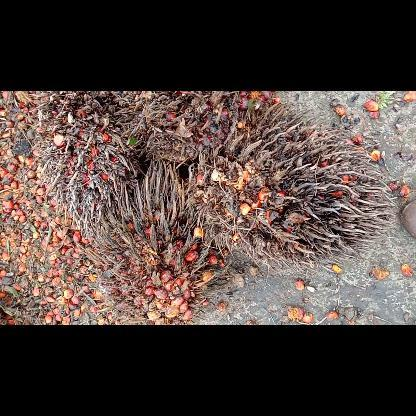Terlalu masak: (183, 98, 401, 274), (83, 156, 234, 324), (21, 90, 149, 235), (114, 91, 256, 165)
